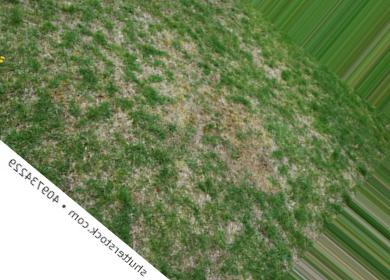patch: (216, 123, 284, 189), (164, 67, 202, 119), (116, 112, 136, 141), (114, 25, 129, 48)
